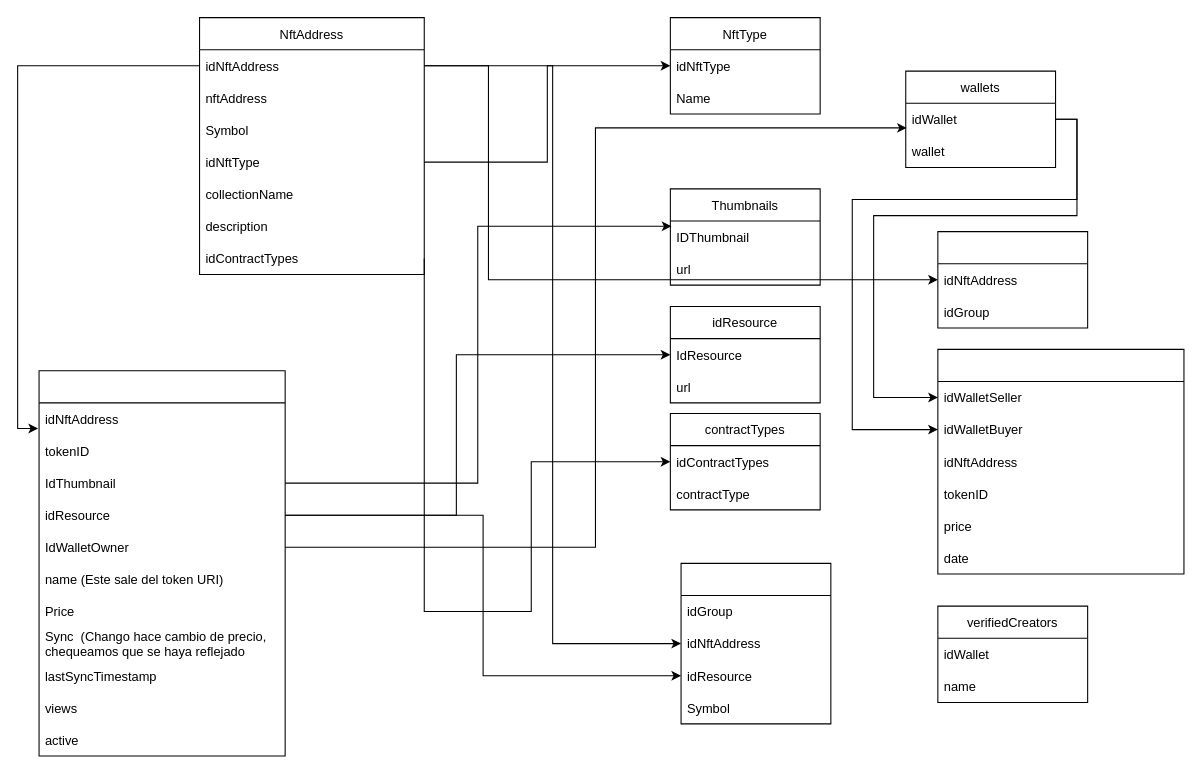
The diagram is 1202 pixels wide and 774 high, and some of its shapes have lost their labels. Each missing label, with the box of its shape:
Groups: (680, 562, 831, 724)
Listings: (38, 370, 285, 756)
metaverseFeatured: (937, 231, 1088, 328)
Transactions: (937, 348, 1184, 574)
